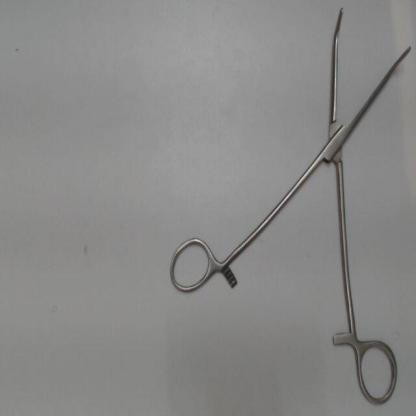Lahey Forceps: (163, 3, 414, 410)
